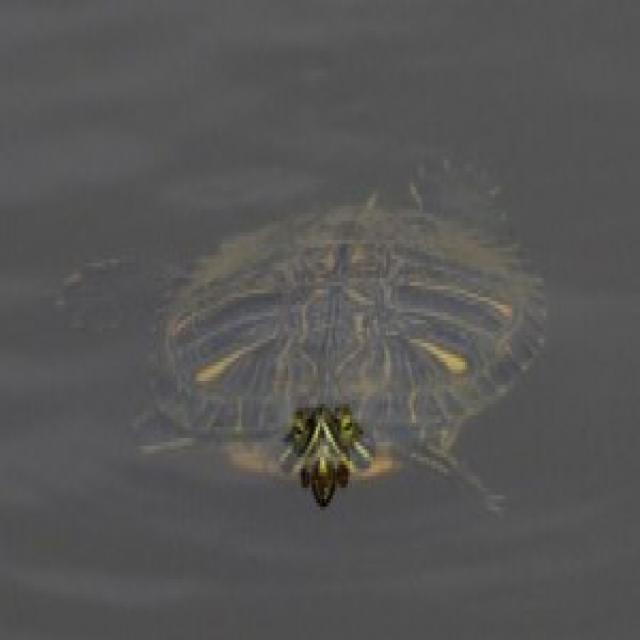Sea turtle: (112, 147, 568, 567)
